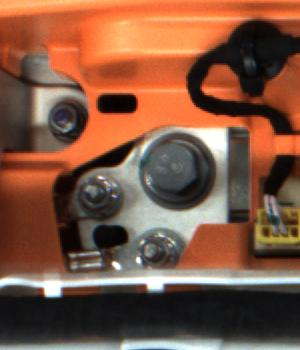nut_b: (139, 133, 221, 210)
